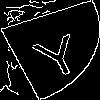Y: (25, 25, 89, 80)
